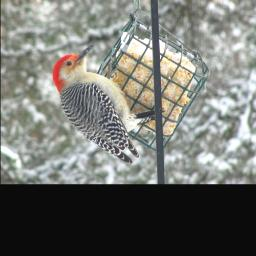Woodpecker: (52, 46, 159, 164)
